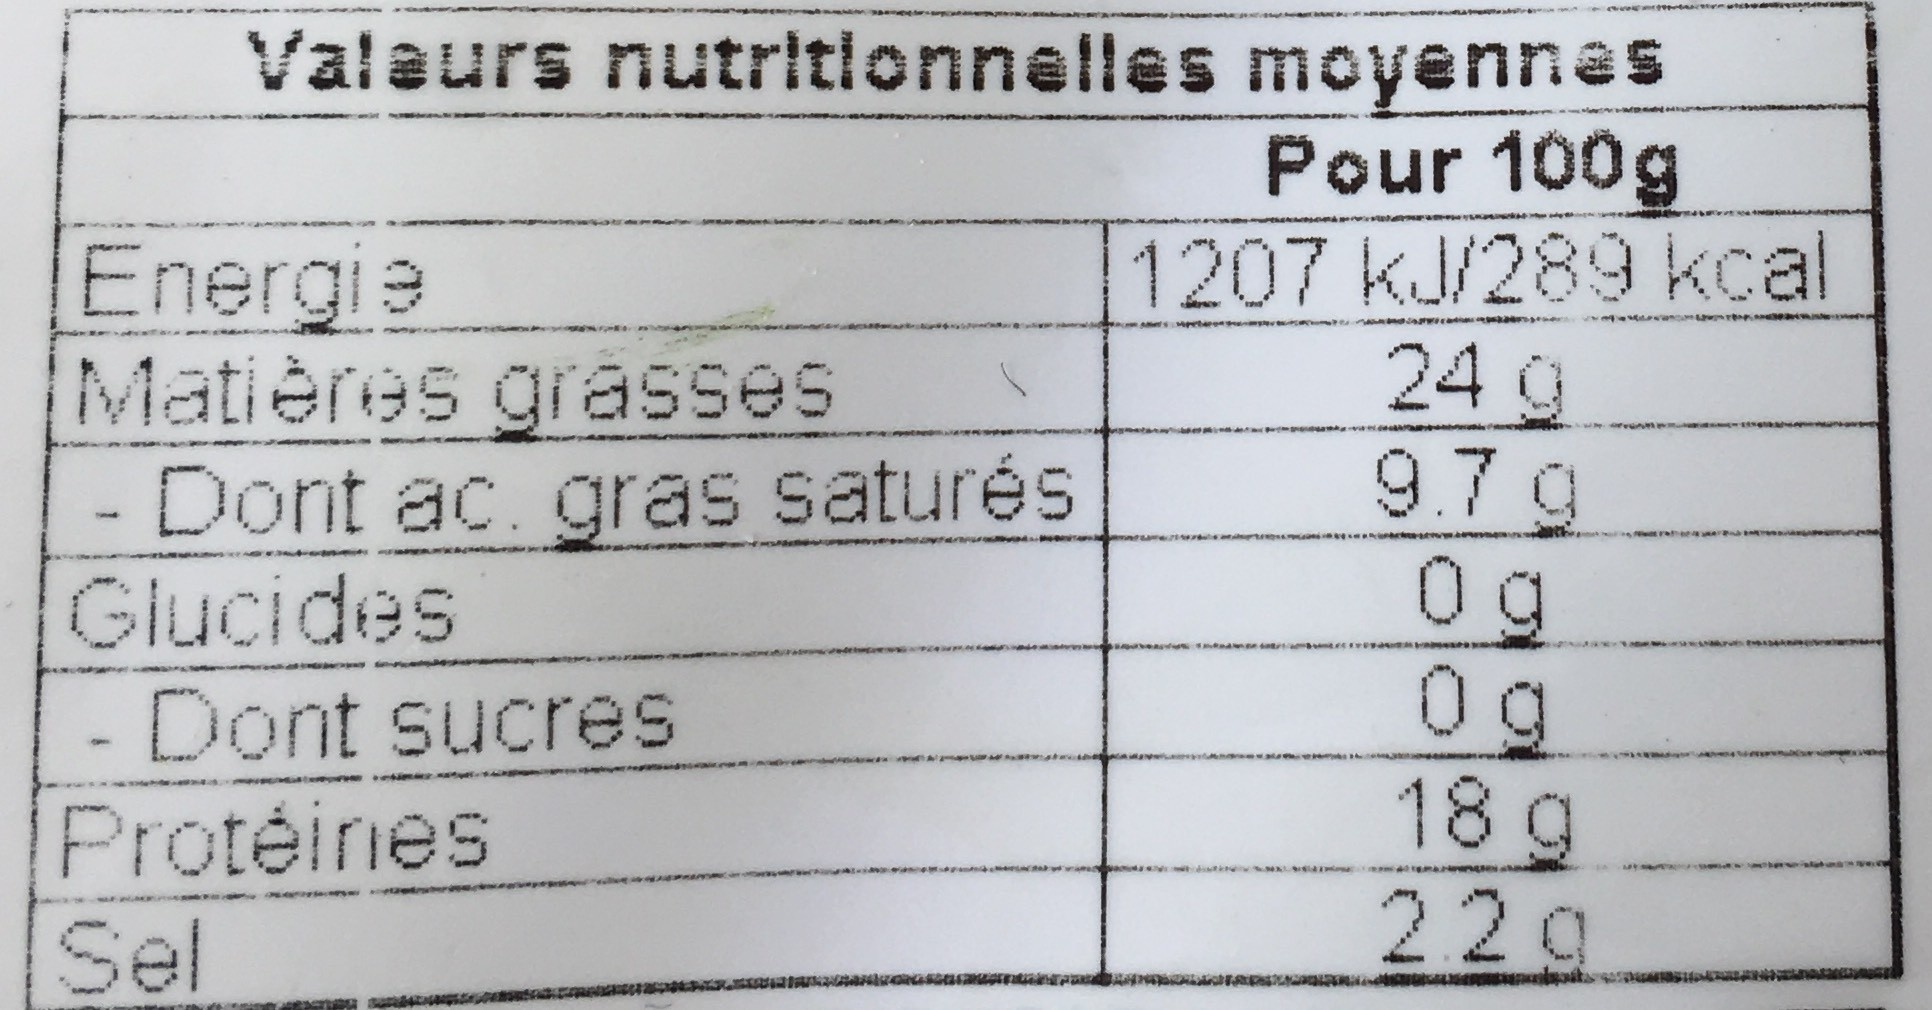column: (52, 219, 1092, 1009), (1117, 215, 1873, 1009)
table: (59, 9, 1906, 970)
